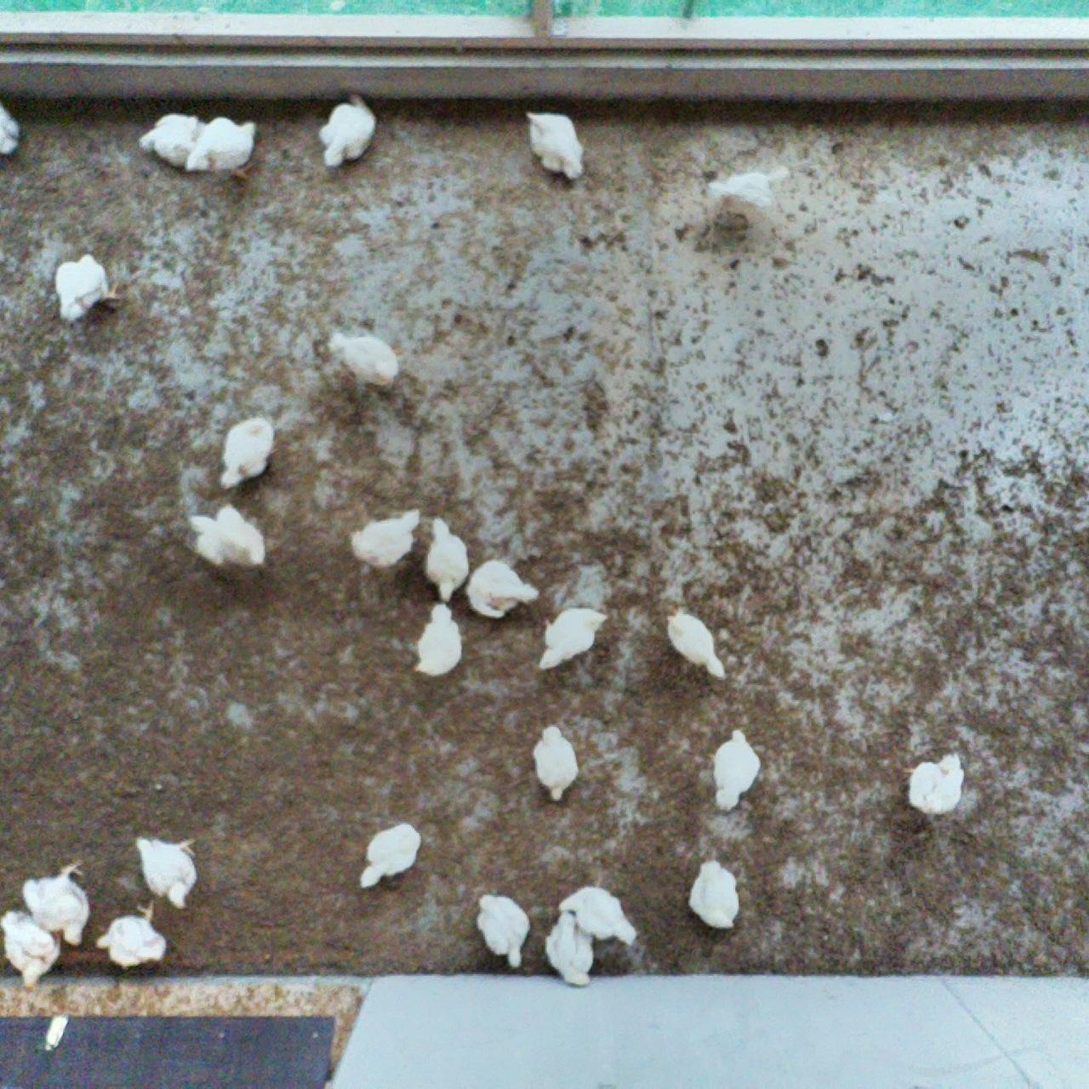chicken: (19, 855, 96, 951), (700, 159, 793, 232), (555, 878, 643, 949), (186, 501, 270, 575), (130, 832, 204, 913), (91, 897, 171, 970), (184, 113, 265, 185), (311, 88, 378, 173), (536, 603, 615, 674), (326, 324, 401, 398), (520, 104, 589, 184), (50, 249, 125, 322), (0, 906, 63, 991), (357, 817, 426, 894), (344, 505, 421, 572), (710, 721, 765, 814), (471, 889, 534, 970), (215, 412, 278, 493), (464, 556, 540, 622), (664, 607, 729, 683), (528, 722, 586, 807), (896, 747, 966, 817), (541, 909, 600, 989), (421, 510, 472, 602), (686, 854, 745, 933), (136, 110, 208, 171), (412, 602, 465, 678), (0, 95, 28, 158)
